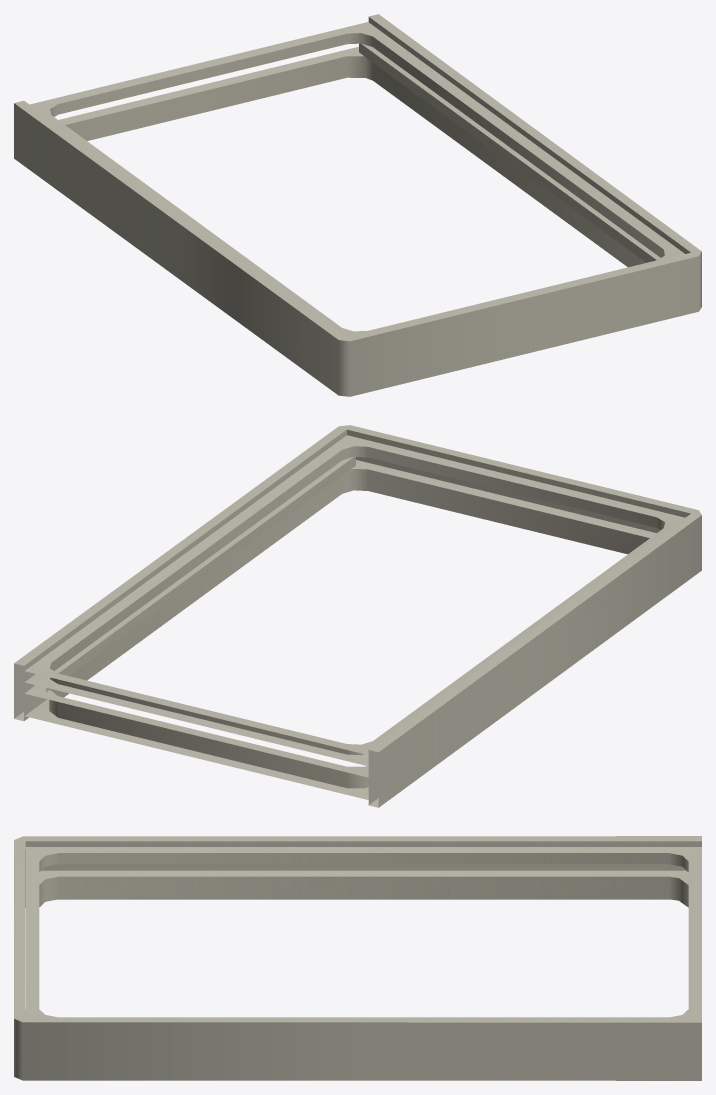
Rendered from nt_2020_doorframe_white_LOD1.obj.
3 renders of one model, top to bottom at view 1: azimuth 30°, elevation 25°; view 2: azimuth 150°, elevation 25°; view 3: azimuth 270°, elevation 25°, orthographic. The views are drawn at different scales.
Visible parts, largest first — view 1: nt_2020_plastic_cream; view 2: nt_2020_plastic_cream; view 3: nt_2020_plastic_cream.
Part boxes in pixels (x1,y1,x2,y2): nt_2020_plastic_cream: (14, 14, 701, 396); nt_2020_plastic_cream: (14, 425, 701, 807); nt_2020_plastic_cream: (14, 836, 701, 1080).
Size of the model in its own units: 172 by 25.2 by 269.
